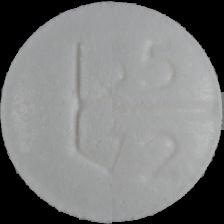33261-609: (0, 0, 224, 224)
